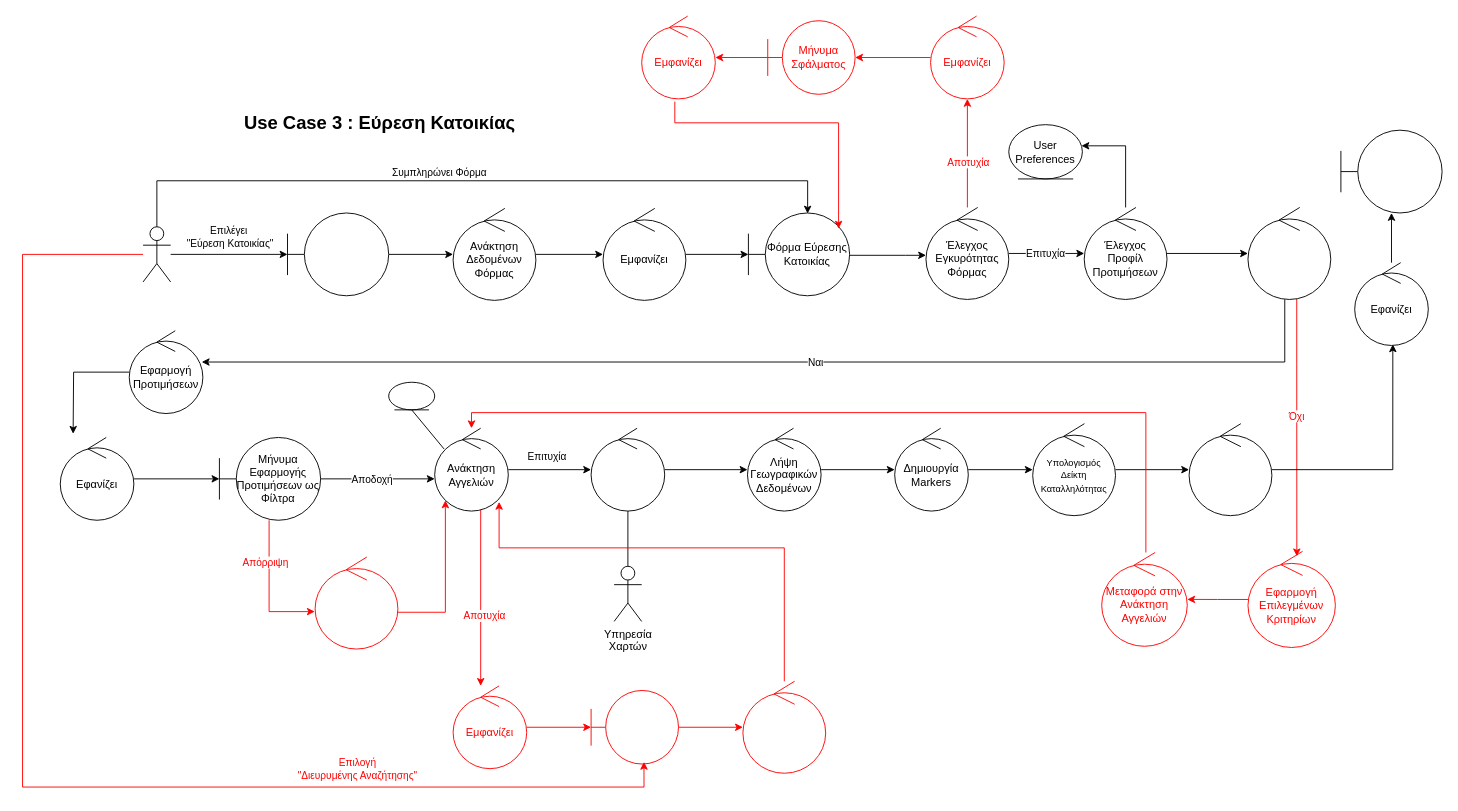
The diagram is 1458 pixels wide and 811 high, and some of its shapes have lost their labels. The shapes that lost their labels are listed below. From the top down, each one's centre as x and y in pixels, then its label:
At (x=1391, y=171): "Οθόνη Εύρεση Κατοικίας".
At (x=156, y=254): "Χρήστης".
At (x=338, y=254): "Αρχική Οθόνη".
At (x=1289, y=253): "Εύρεση Προφίλ ?".
At (x=411, y=395): "Listing".
At (x=627, y=469): "Επικοινωνία με Υπηρεσία Χαρτών".
At (x=1230, y=469): "Ταξινόμηση Αγγελιών".
At (x=356, y=602): "Αγνόηση Προτιμήσεων Χρήστη".
At (x=634, y=727): "Μήνυμα Αποτυχίας".
At (x=784, y=726): "Εφαρμογή Διευρυμένης Αναζήτησης".
